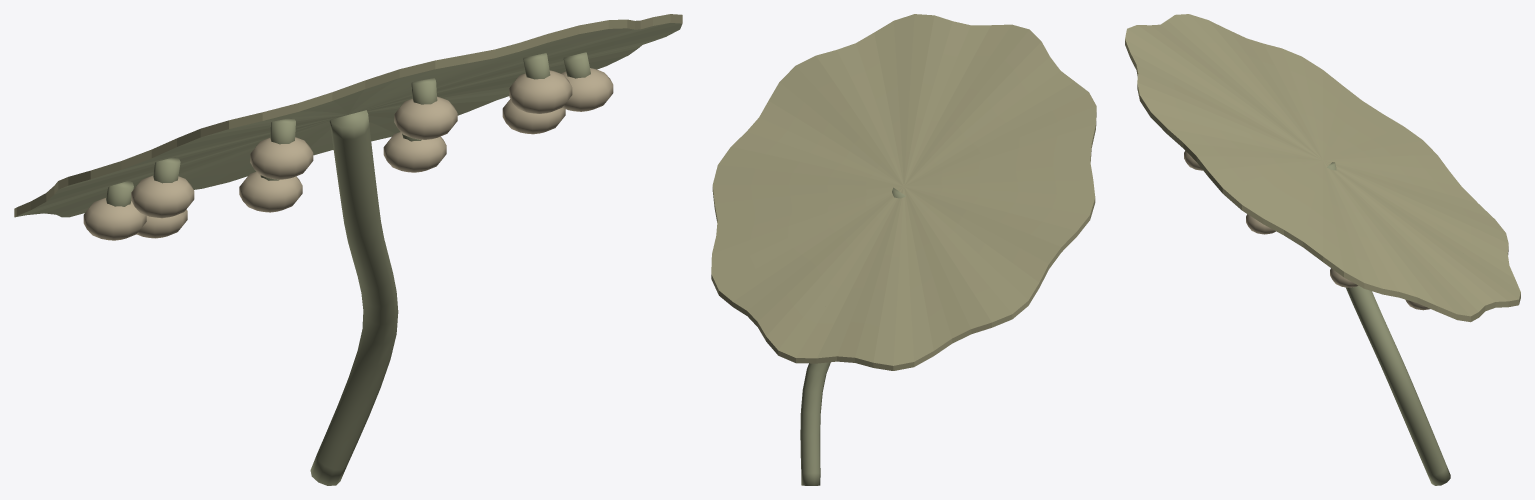
The model's file is peltaspermum.glb.
3 views of the same model, side by side, from view 1: azimuth 30°, elevation 25°; view 2: azimuth 150°, elevation 25°; view 3: azimuth 270°, elevation 25° (orthographic). The views are drawn at different scales.
Parts seen in each view (by area): view 1: preserved-thin-wavy-peltate-reproductive-disc-only, attached-lower-surface-ring-of-simplified-ovulate-bases, cut-petiole-connected-to-disc-underside; view 2: preserved-thin-wavy-peltate-reproductive-disc-only, cut-petiole-connected-to-disc-underside; view 3: preserved-thin-wavy-peltate-reproductive-disc-only, cut-petiole-connected-to-disc-underside, attached-lower-surface-ring-of-simplified-ovulate-bases.
Part boxes in pixels (x1,y1,x2,y2): preserved-thin-wavy-peltate-reproductive-disc-only: (14,14,682,217); attached-lower-surface-ring-of-simplified-ovulate-bases: (83,52,613,240); cut-petiole-connected-to-disc-underside: (310,110,398,485); preserved-thin-wavy-peltate-reproductive-disc-only: (711,14,1096,370); cut-petiole-connected-to-disc-underside: (800,187,905,485); preserved-thin-wavy-peltate-reproductive-disc-only: (1125,14,1520,322); cut-petiole-connected-to-disc-underside: (1327,162,1450,485); attached-lower-surface-ring-of-simplified-ovulate-bases: (1184,150,1429,310).
Bounding box in the file's own units: 0.0792 × 0.08 × 0.0695.
